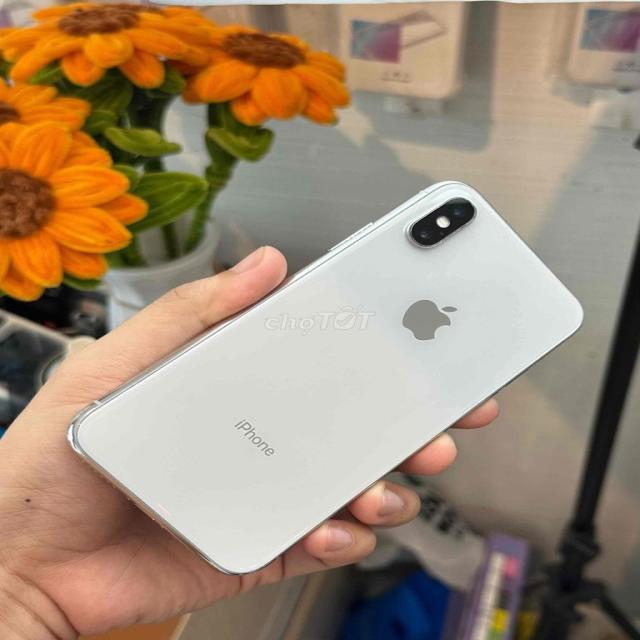gen_x_xs: (69, 175, 583, 573)
